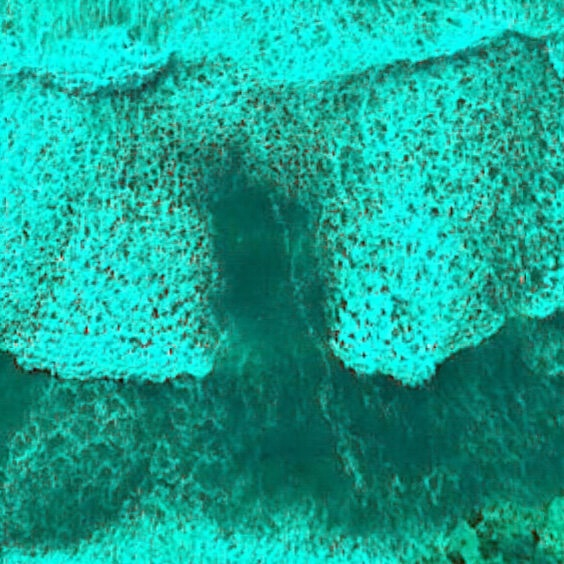rip_current: (155, 50, 399, 464)
